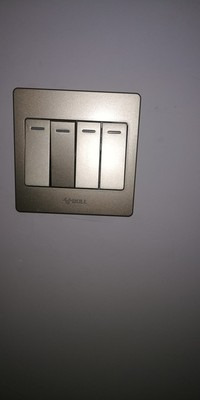switch: (23, 114, 55, 191), (98, 119, 130, 195), (48, 116, 79, 194), (71, 118, 104, 191)
